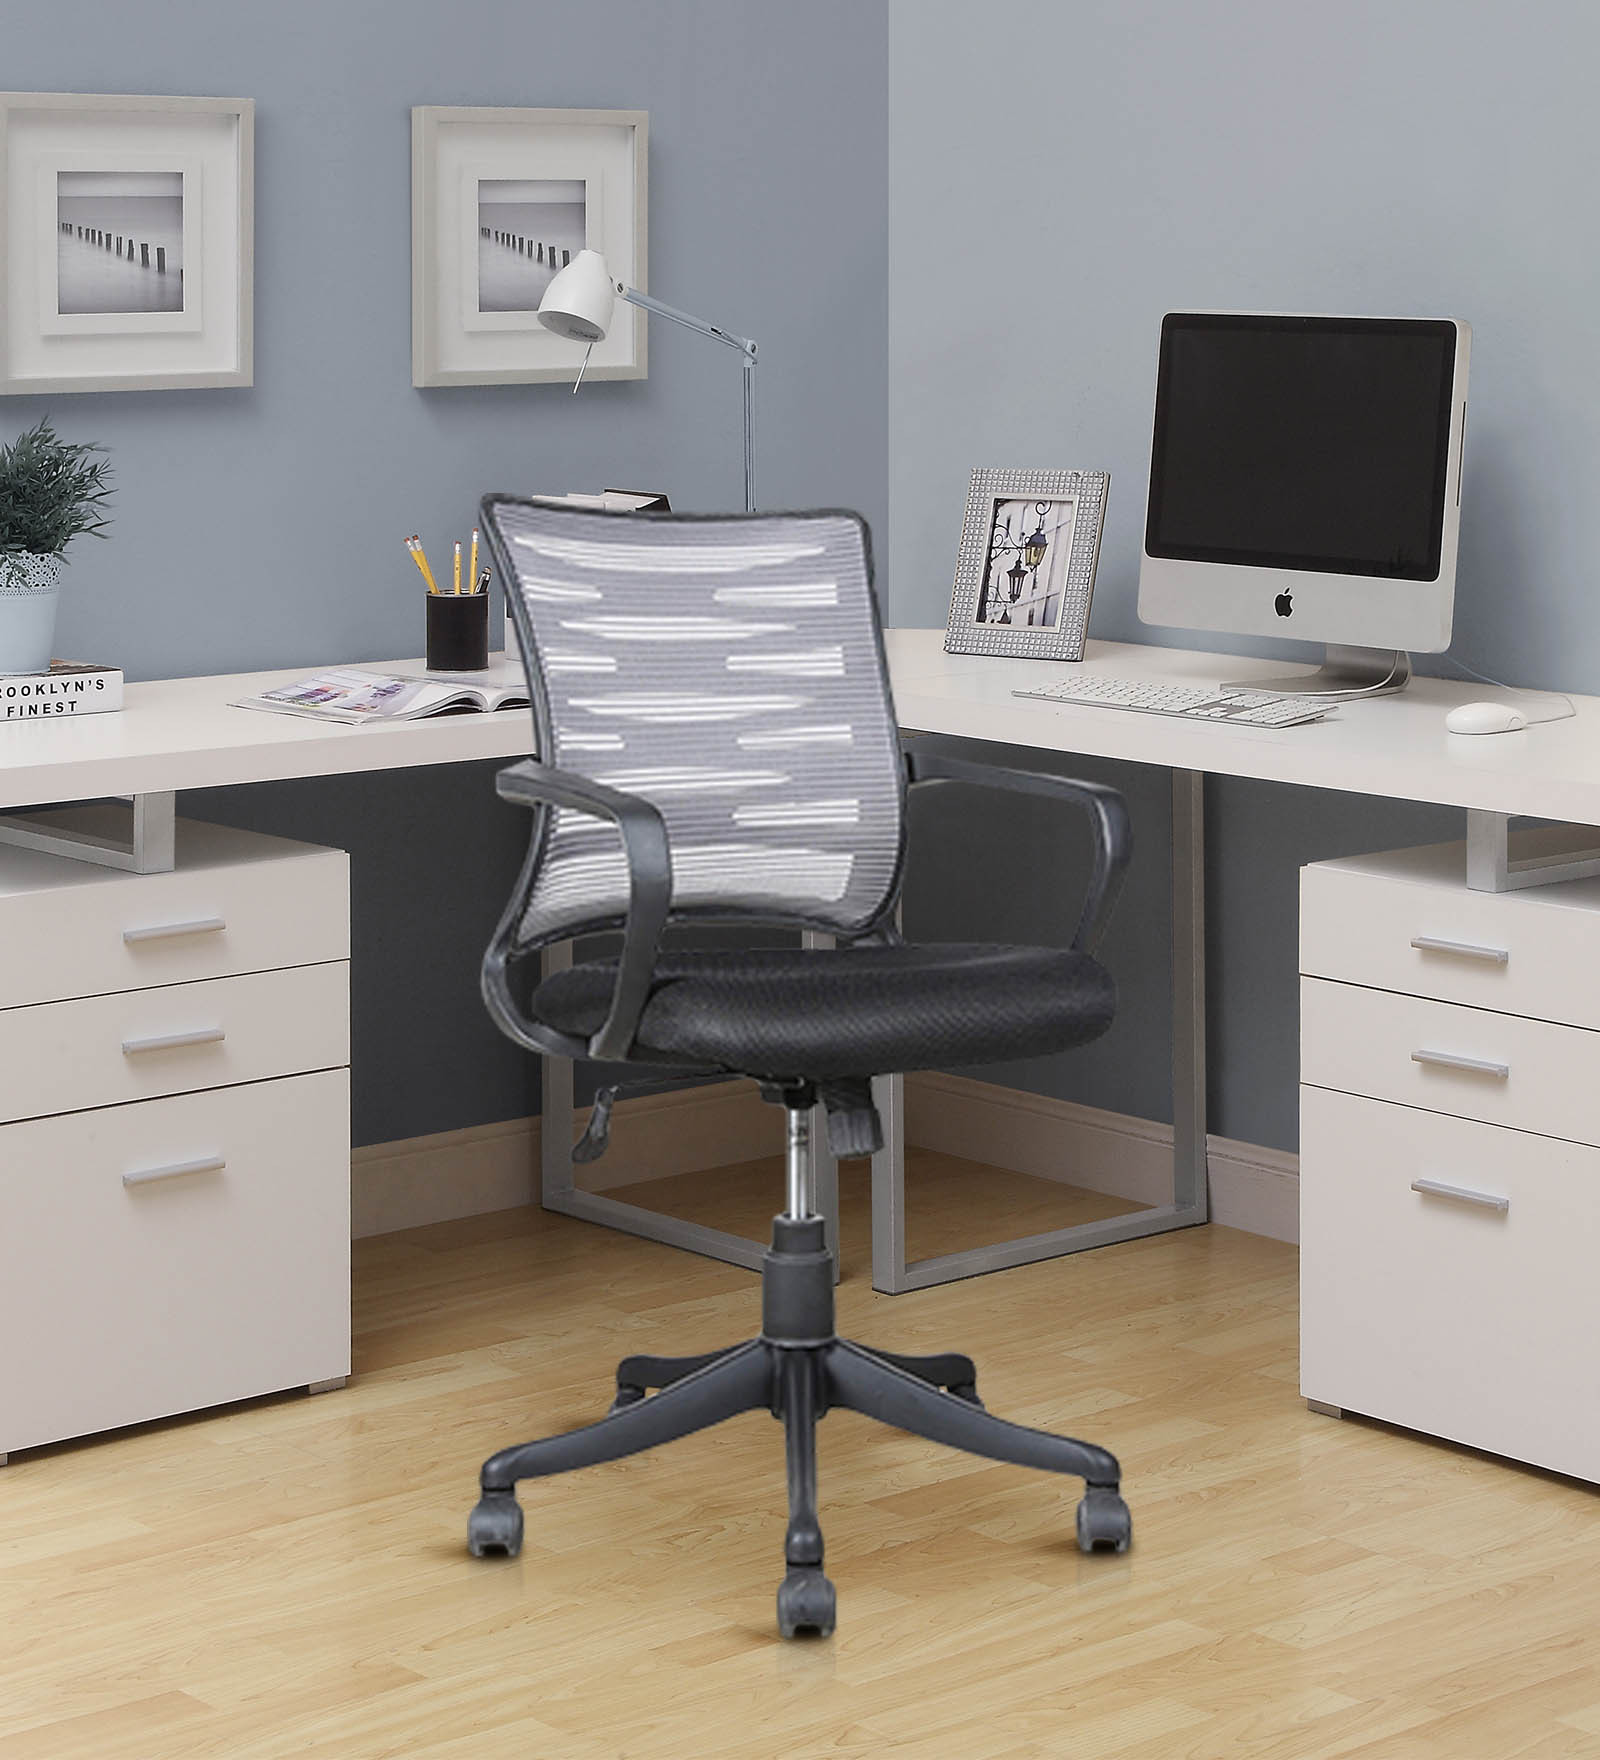Astec Ergonomic Chair in Grey Colour by Parin: (425, 480, 1188, 1653)
